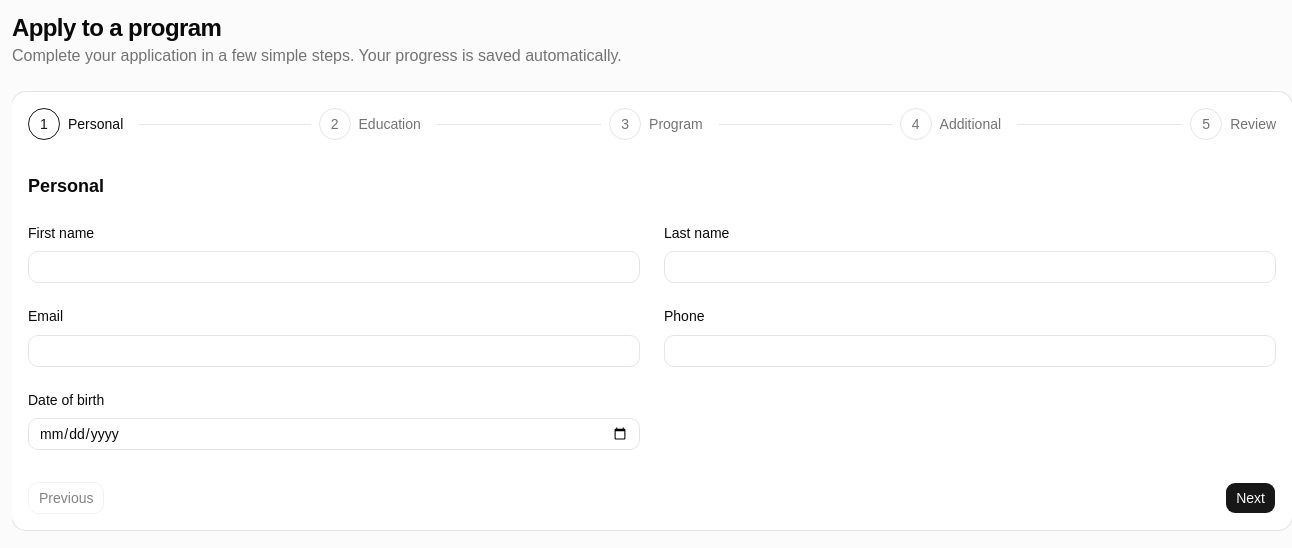
Test: ApplyPage › moves to the next step and saves progress when the step is valid
This screenshot has width=1292, height=548.
Type "Ada" into the field labelled "First name" at (334, 267), box [28,251,640,283]
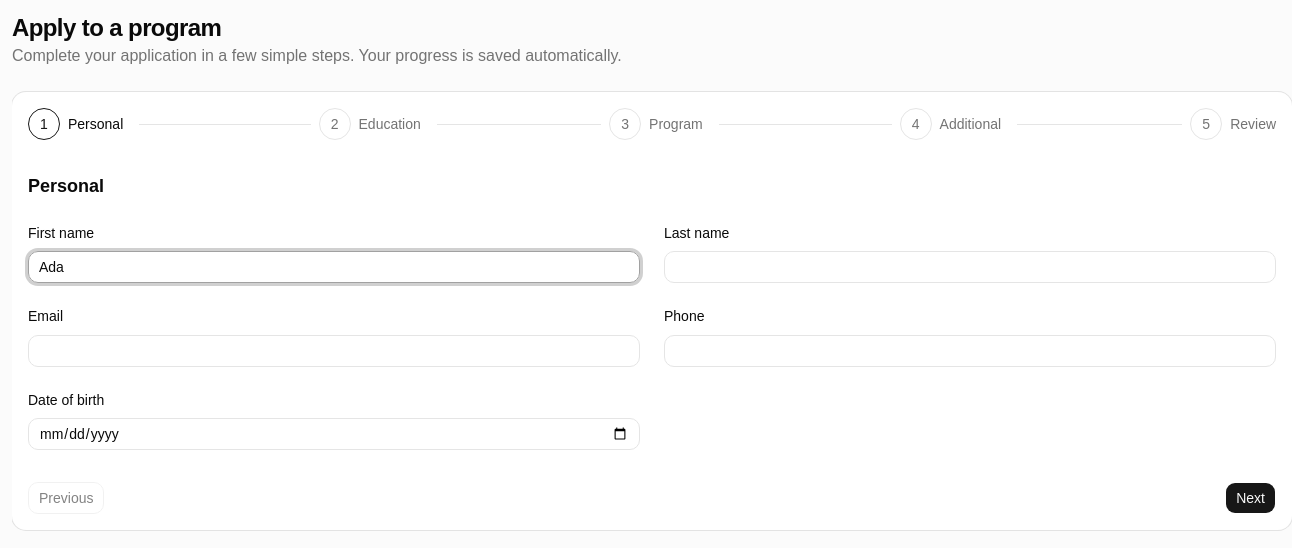
Type "Lovelace" into the field labelled "Last name" at (970, 267), box [664,251,1276,283]
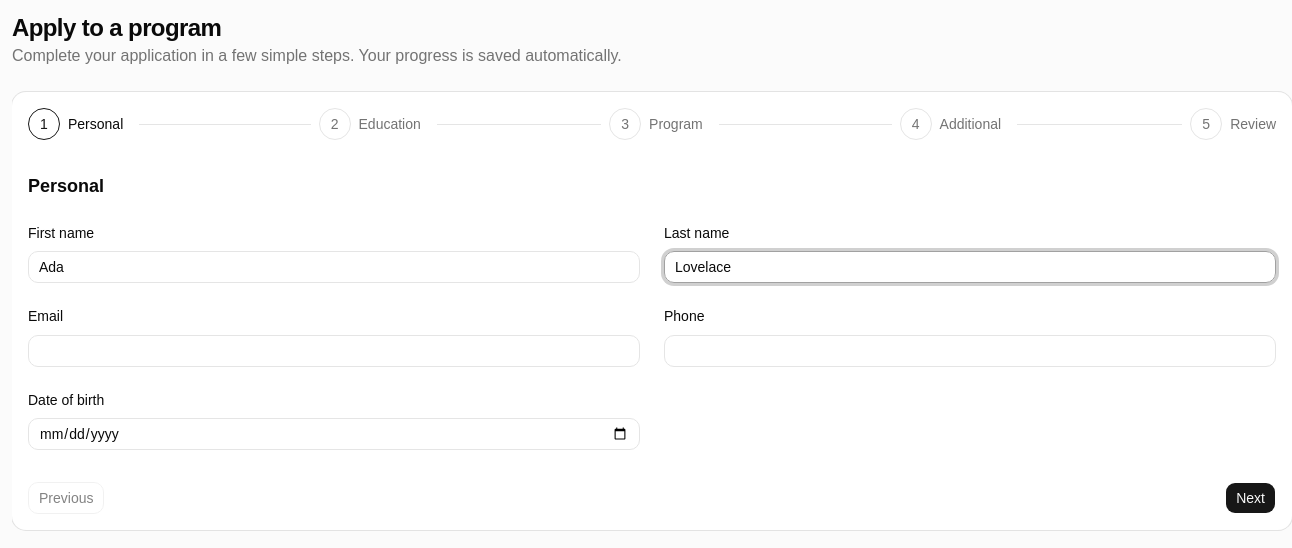
Type "ada@example.com" into the field labelled "Email" at (334, 350), box [28,334,640,366]
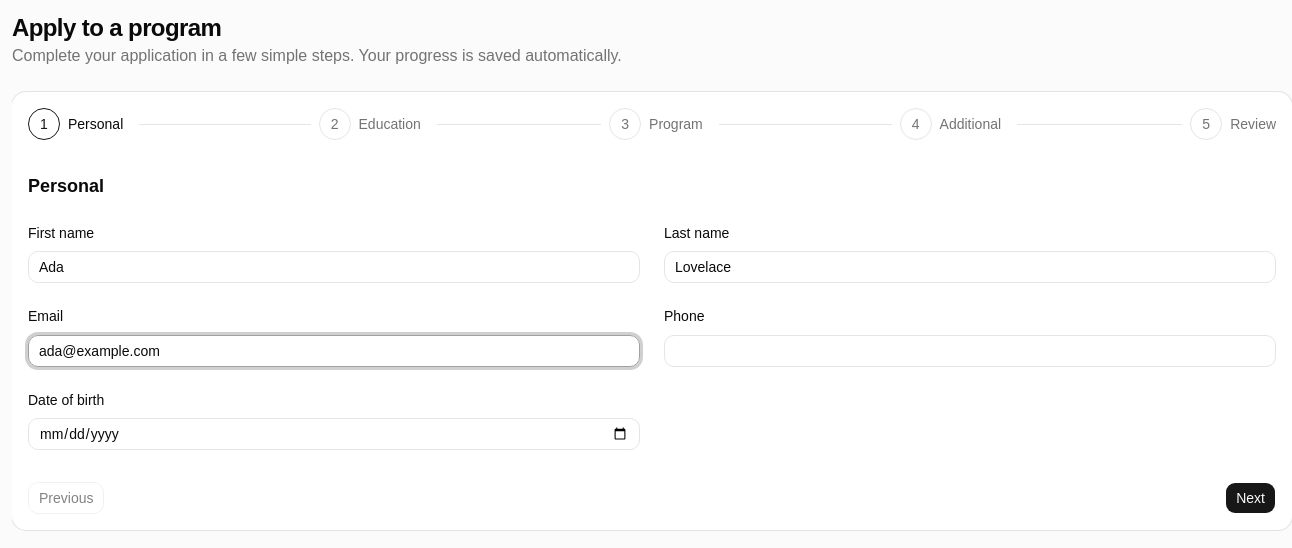
Type "+1 555-010-0000" into the field labelled "Phone" at (970, 350), box [664,334,1276,366]
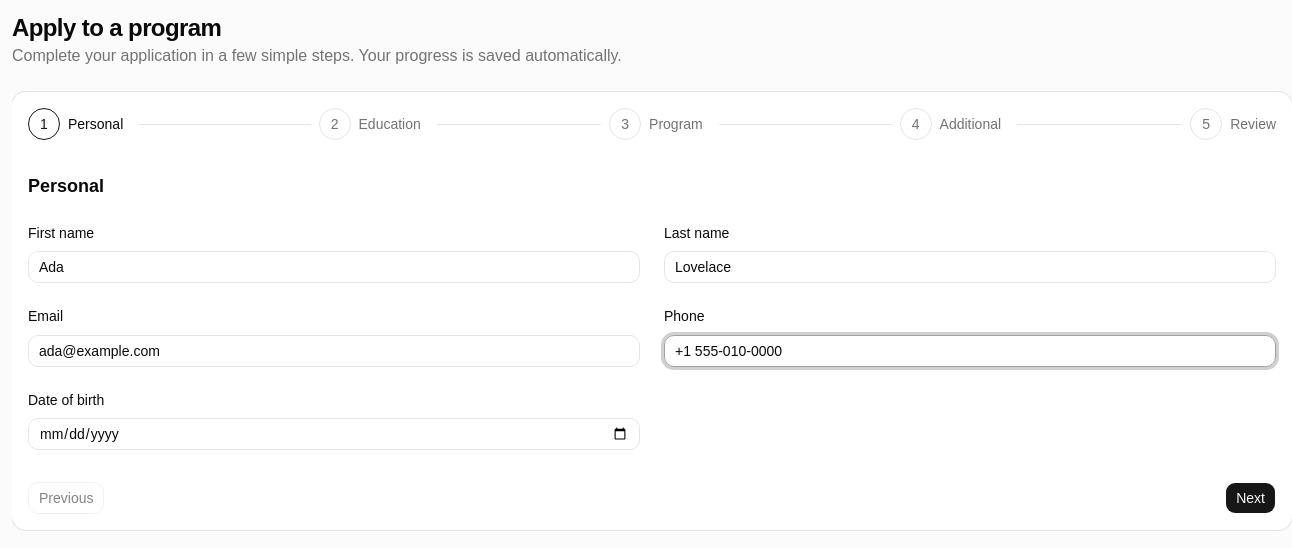
Type "2004-03-15" into the date field labelled "Date of birth" at (334, 434), box [28,418,640,450]
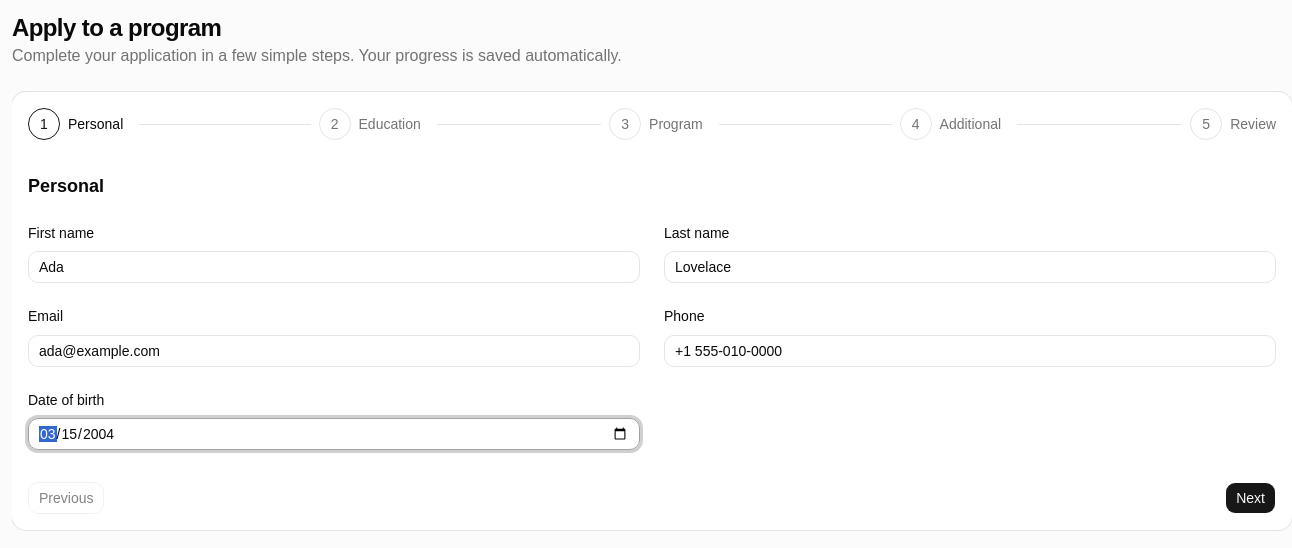
Click the button "Next" at (1251, 498), box [1225,482,1276,514]
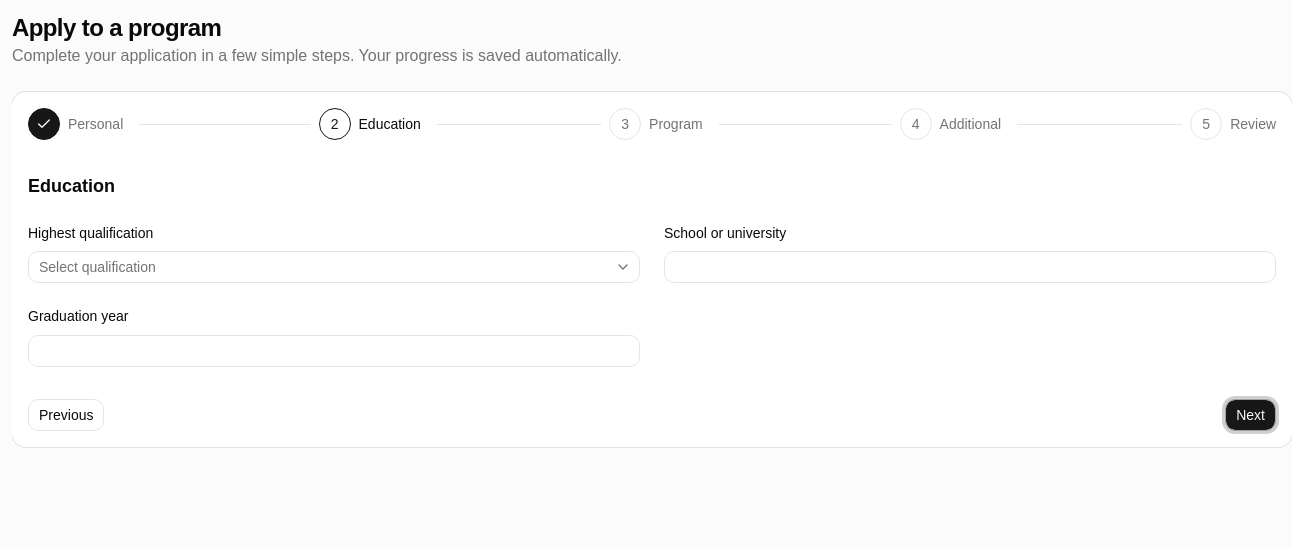
Now the heading "Education" is shown, box [28,176,115,196]
